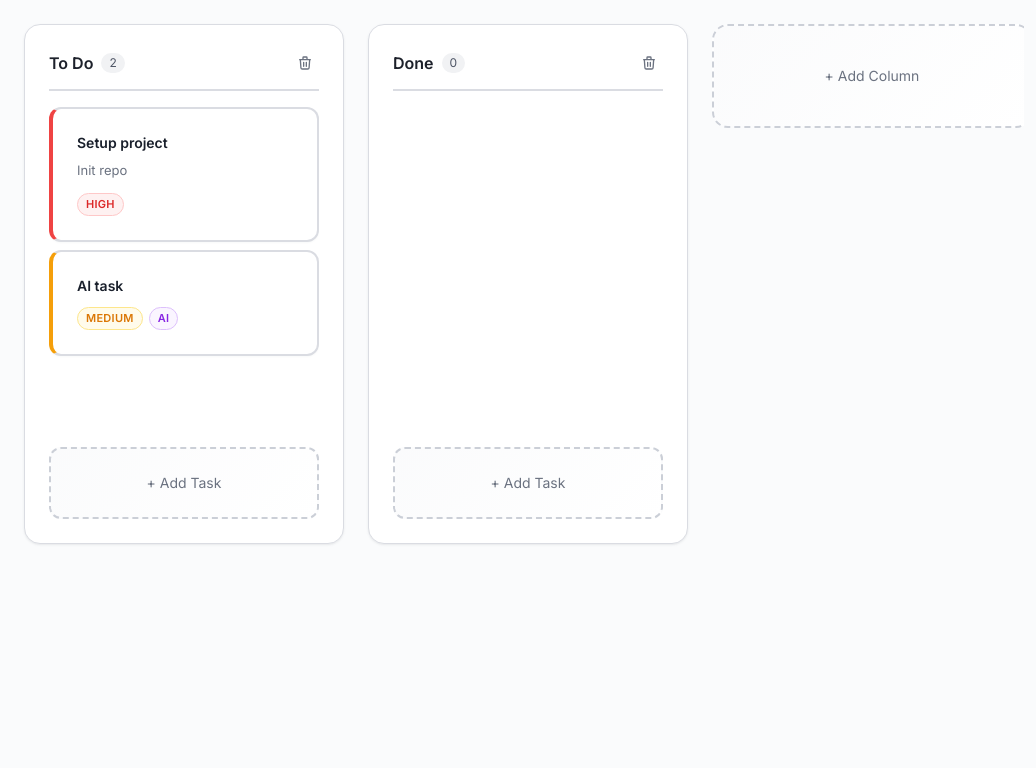
Test case: Board › shows error when deleting non-empty column
The width and height of the screenshot is (1036, 768).
Click the 1st button titled "Delete column".
click(305, 63)  # box [291, 49, 319, 77]
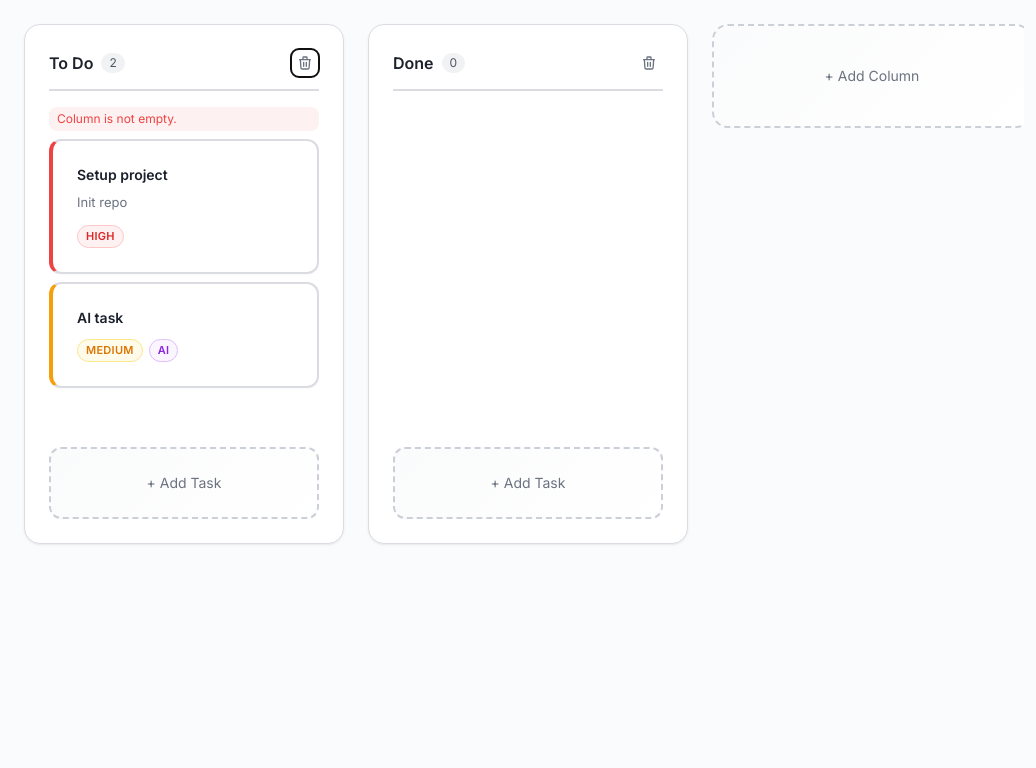
Check: the text "Column is not empty." is shown, box [49, 107, 319, 131]
